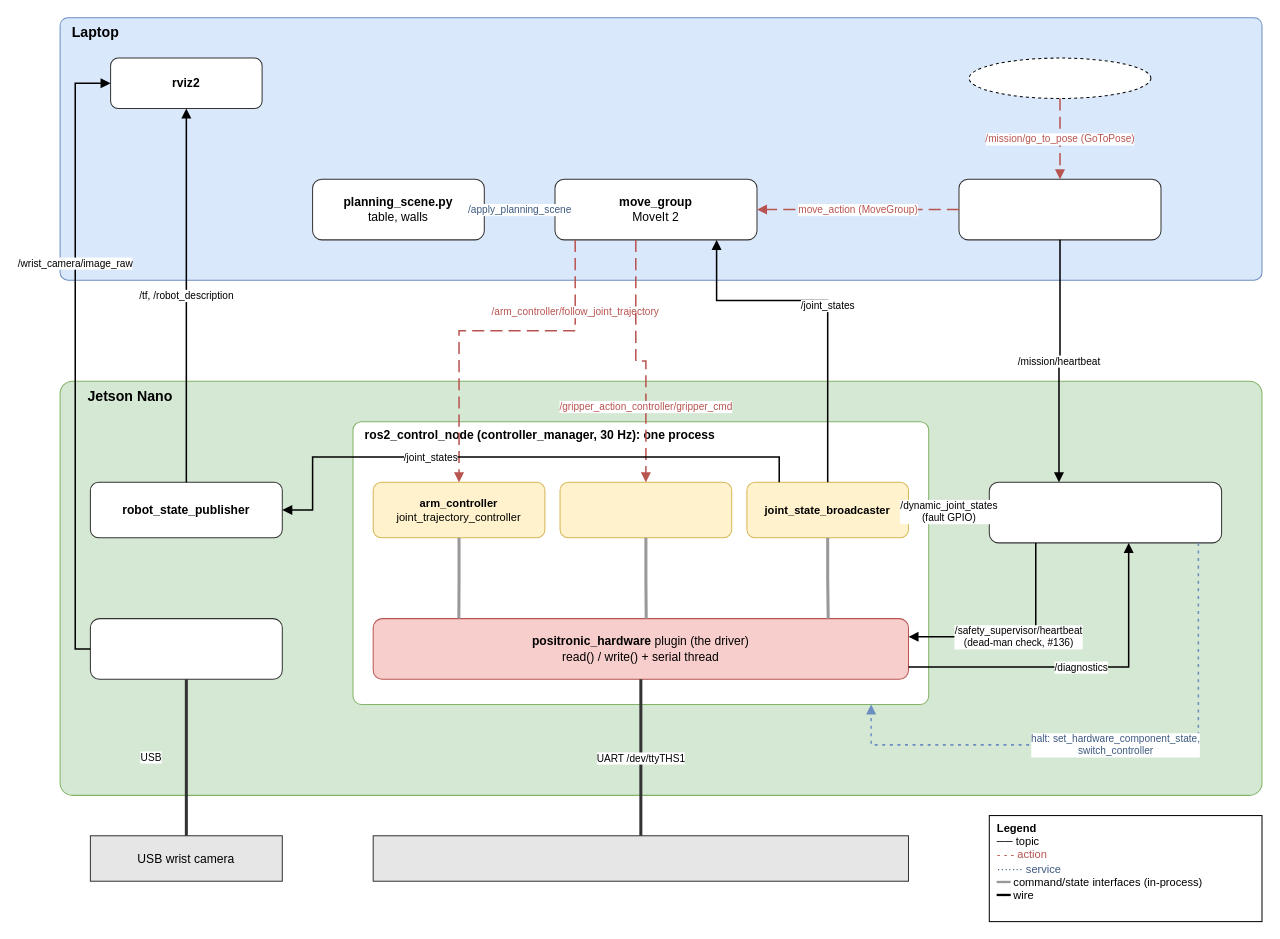
Image size: 1280x939. Some labels were removed from this diagram. Each missing label, with the centre of its shape:
gripper_action_controller: (645,509)
mission_node positronic_mission: (1059,209)
myCobot 280: Atom board, 6 servos + gripper servo: (640,858)
safety_supervisor positronic_safety (lifecycle): (1105,512)
wrist_camera.py (camera:=true): (185,648)
you: ros2 action send_goal: (1059,77)
